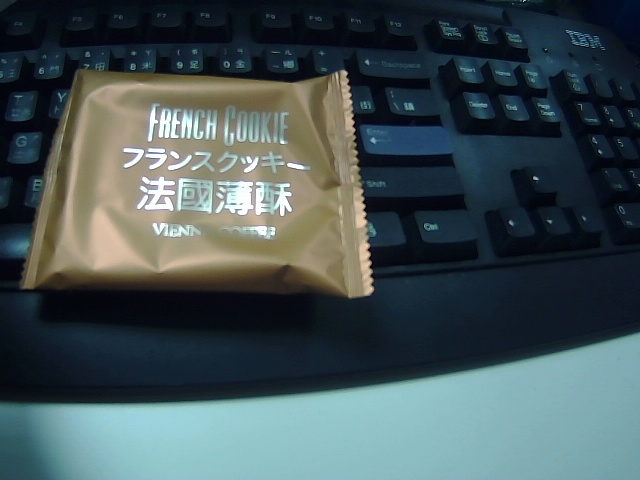frenchcookie: (32, 63, 382, 313)
